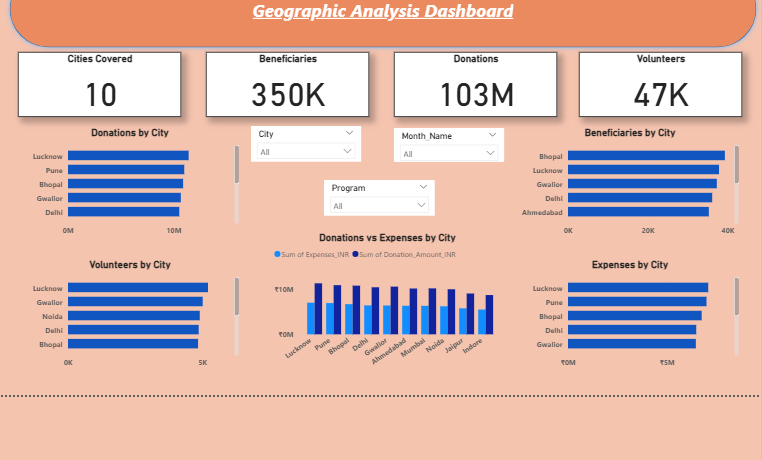

Layout of this report page (visuals, bound fields, positions):
{"tool":"powerbi","page":{"name":"Duplicate of Duplicate of Duplicate of Page 1","canvas":[1280,720],"ordinal":3},"visuals":[{"type":"shape","title":"EXECUTIVE DASHBOARD","box":[10.1,0,1269.9,144.5],"z":0},{"type":"card","title":"Cities Covered","fields":{"Values":["Count(feathers NGO_Analytics.City)"]},"box":[31.9,144.5,273.8,109.2],"z":1000},{"type":"card","title":"Beneficiaries","fields":{"Values":["Sum(feathers NGO_Analytics.Beneficiaries)"]},"box":[347.7,144.5,273.8,109.2],"z":2000},{"type":"card","title":"Donations ","fields":{"Values":["Sum(feathers NGO_Analytics.Donation_Amount_INR)"]},"box":[663.5,144.5,273.8,109.2],"z":3000},{"type":"card","title":"Volunteers","fields":{"Values":["Sum(feathers vw_monthly_summary.Total_Volunteers)"]},"box":[974.3,144.5,273.8,109.2],"z":4000},{"type":"slicer","fields":{"Values":["feathers NGO_Analytics.City"]},"box":[423.3,268.8,184.8,60.5],"z":5000},{"type":"slicer","fields":{"Values":["feathers vw_monthly_summary.Month_Name"]},"box":[663.5,272.1,184.8,57.1],"z":6000},{"type":"slicer","fields":{"Values":["feathers NGO_Analytics.Program"]},"box":[545.9,359.5,186.5,60.5],"z":7000},{"type":"barChart","title":"Donations by City","fields":{"Category":["feathers NGO_Analytics.City"],"Y":["Sum(feathers NGO_Analytics.Donation_Amount_INR)"]},"box":[31.9,268.8,376.3,193.2],"z":8000},{"type":"barChart","title":"Beneficiaries by City","fields":{"Category":["feathers NGO_Analytics.City"],"Y":["Sum(feathers NGO_Analytics.Beneficiaries)"]},"box":[871.8,268.8,376.3,193.2],"z":9000},{"type":"barChart","title":"Volunteers by City","fields":{"Category":["feathers NGO_Analytics.City"],"Y":["Sum(feathers NGO_Analytics.Volunteers)"]},"box":[31.9,490.5,376.3,193.2],"z":10000},{"type":"barChart","title":"Expenses by City","fields":{"Category":["feathers NGO_Analytics.City"],"Y":["Sum(feathers NGO_Analytics.Expenses_INR)"]},"box":[871.8,490.5,376.3,193.2],"z":11000},{"type":"clusteredColumnChart","title":"Donations vs Expenses by City","fields":{"Category":["feathers NGO_Analytics.City"],"Y":["Sum(feathers NGO_Analytics.Expenses_INR)","Sum(feathers NGO_Analytics.Donation_Amount_INR)"]},"box":[456.9,445.1,391.4,238.5],"z":12000}]}

Visuals, with their boxes on the page's 1280x720 design canvas (x1, y1, x2, y2). These are canvas units, not pixel positions in the 762x460 screenshot, which may show the page scaled, cropped or inside an application window:
"EXECUTIVE DASHBOARD" shape: (x1=10, y1=0, x2=1280, y2=144)
"Cities Covered" card: (x1=32, y1=144, x2=306, y2=254)
"Beneficiaries" card: (x1=348, y1=144, x2=622, y2=254)
"Donations " card: (x1=664, y1=144, x2=937, y2=254)
"Volunteers" card: (x1=974, y1=144, x2=1248, y2=254)
slicer - feathers NGO_Analytics.City: (x1=423, y1=269, x2=608, y2=329)
slicer - feathers vw_monthly_summary.Month_Name: (x1=664, y1=272, x2=848, y2=329)
slicer - feathers NGO_Analytics.Program: (x1=546, y1=360, x2=732, y2=420)
"Donations by City" barChart: (x1=32, y1=269, x2=408, y2=462)
"Beneficiaries by City" barChart: (x1=872, y1=269, x2=1248, y2=462)
"Volunteers by City" barChart: (x1=32, y1=490, x2=408, y2=684)
"Expenses by City" barChart: (x1=872, y1=490, x2=1248, y2=684)
"Donations vs Expenses by City" clusteredColumnChart: (x1=457, y1=445, x2=848, y2=684)
